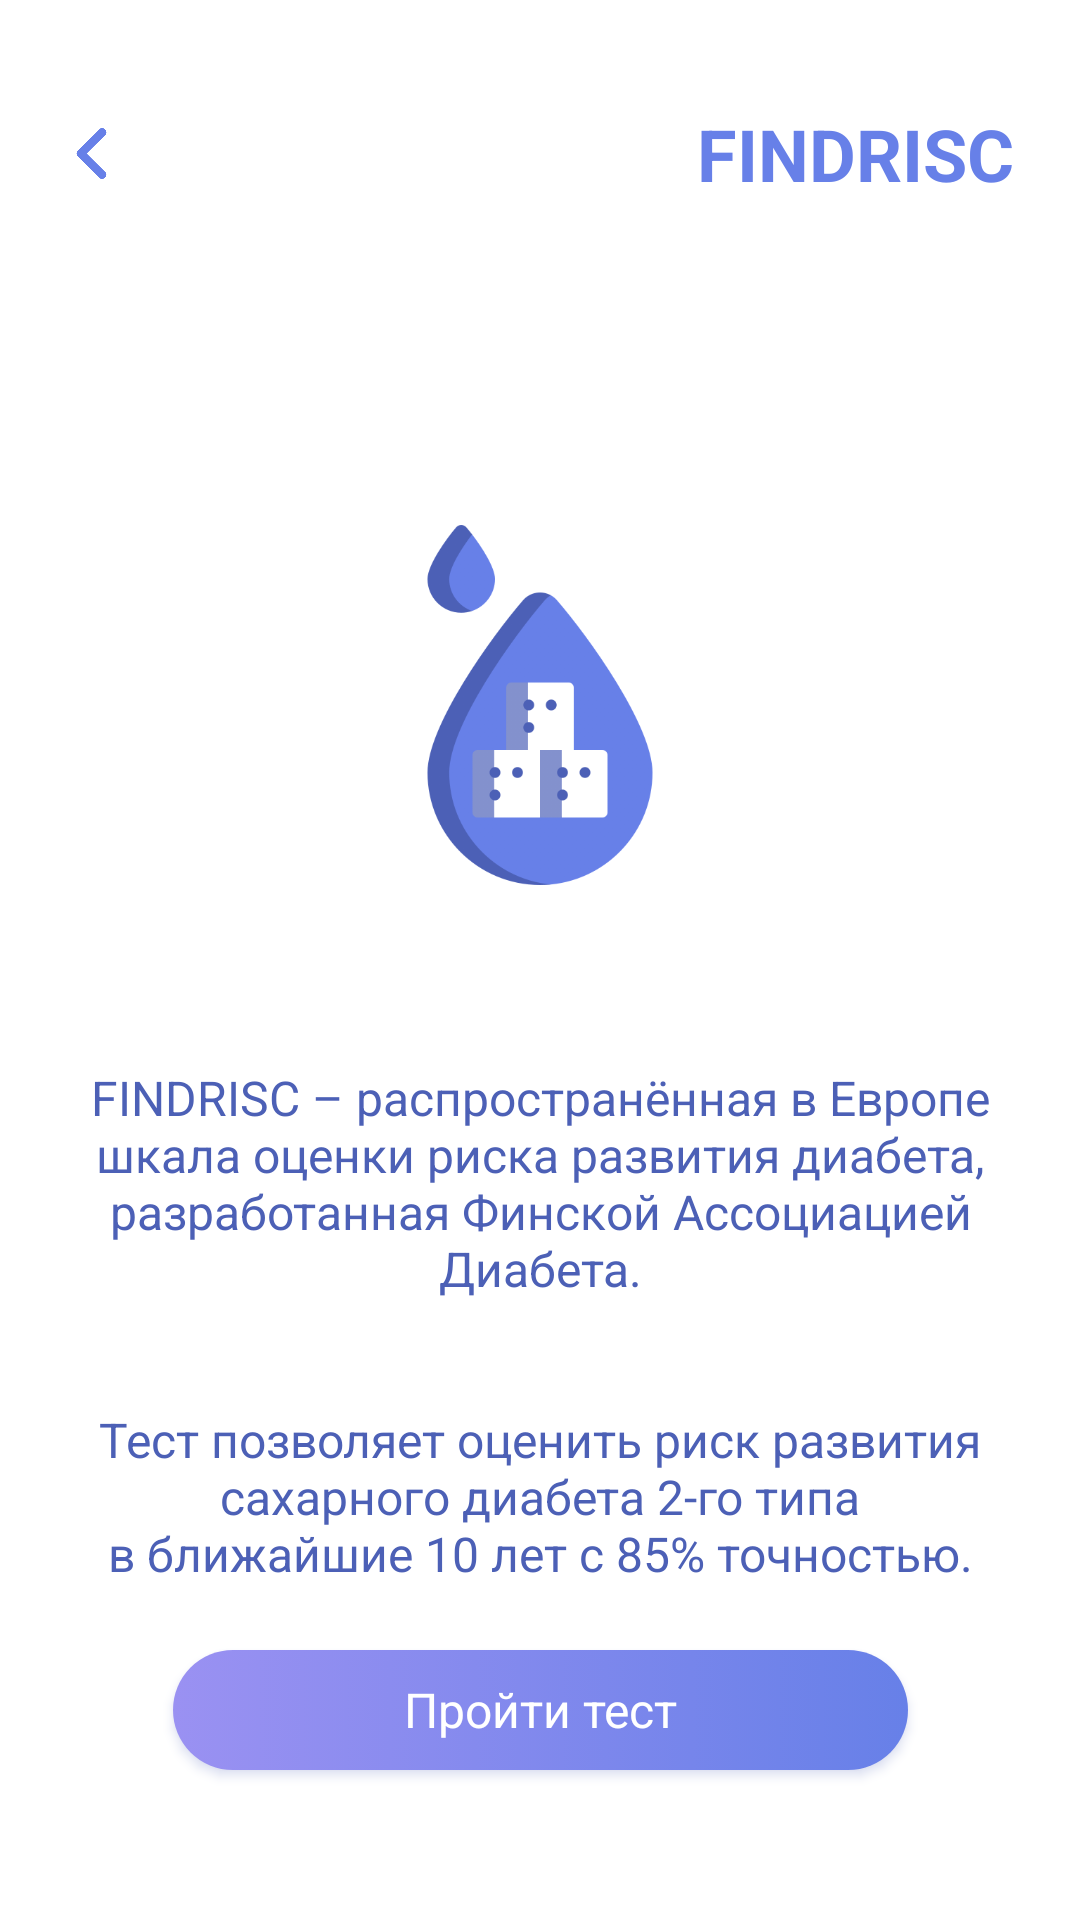

Icons on this 1080px x 1920px Android screen, each with its box as rect(x1, y1, x2, y2):
back: rect(76, 128, 107, 179)
